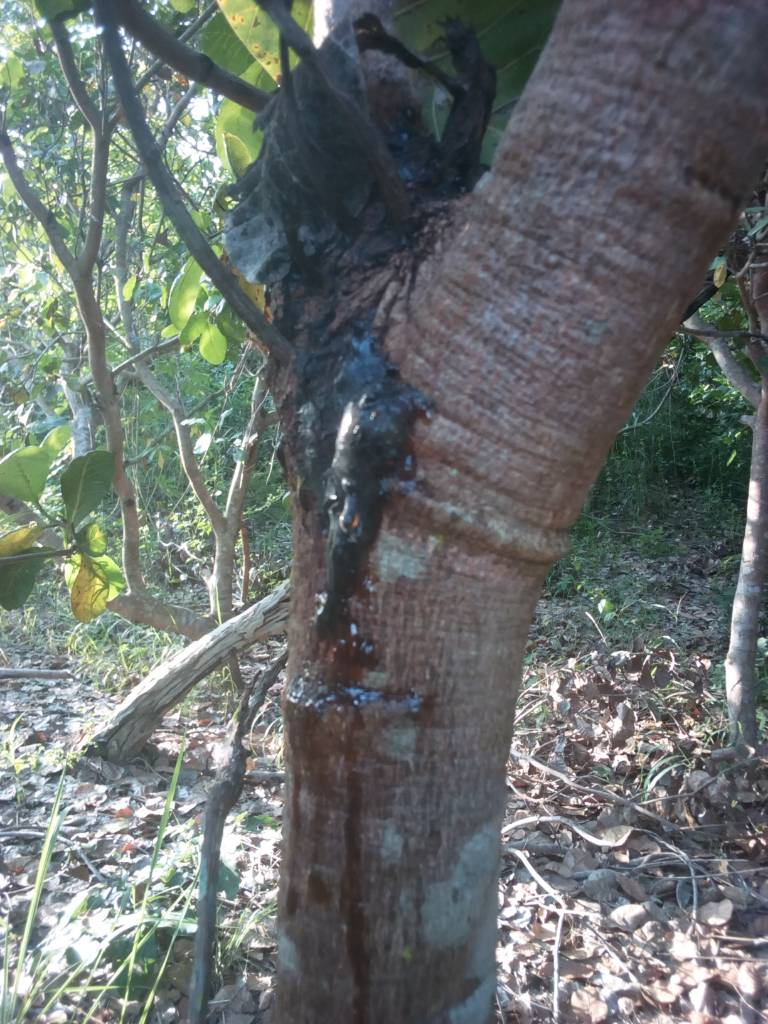Mecocorynus longiceps: (235, 316, 494, 741)
